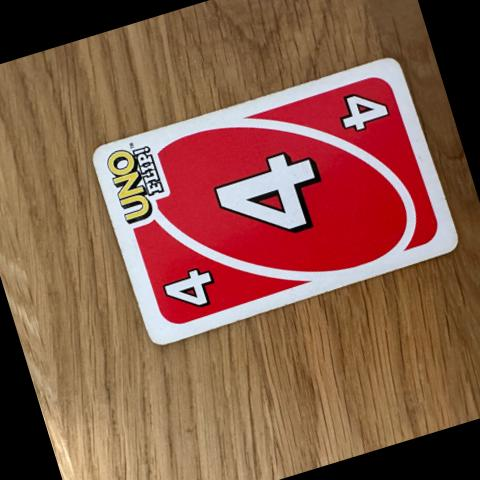0_yellow: (212, 152, 322, 237), (161, 260, 217, 315), (330, 92, 394, 134)
